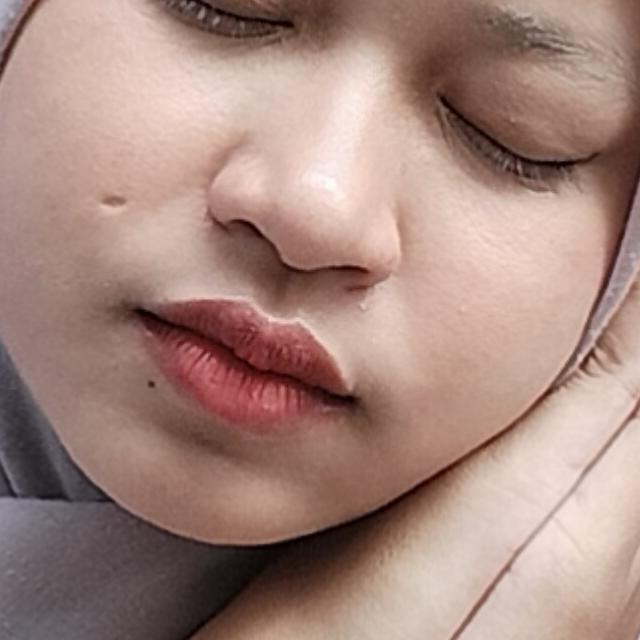tidur: (0, 68, 640, 640)
